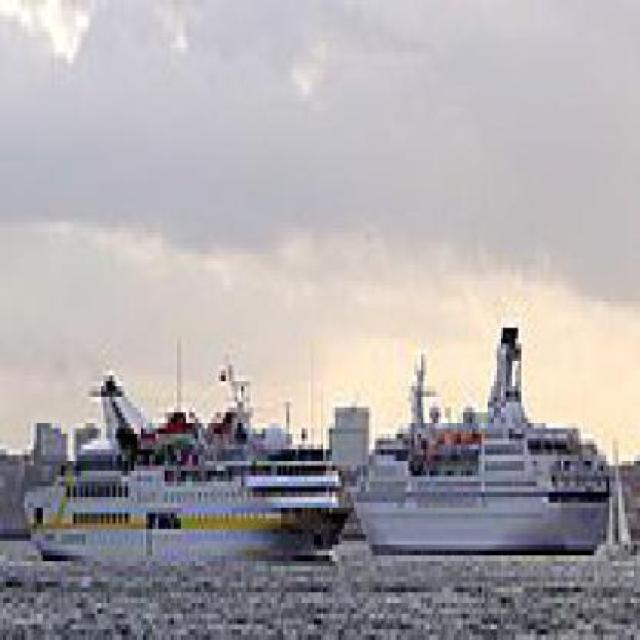cruise: (19, 334, 361, 588), (343, 303, 629, 567)
